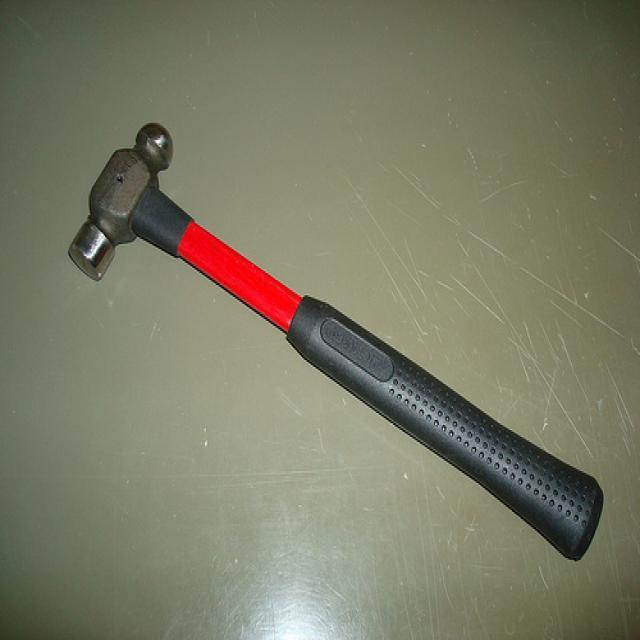hammer: (39, 94, 604, 582)
